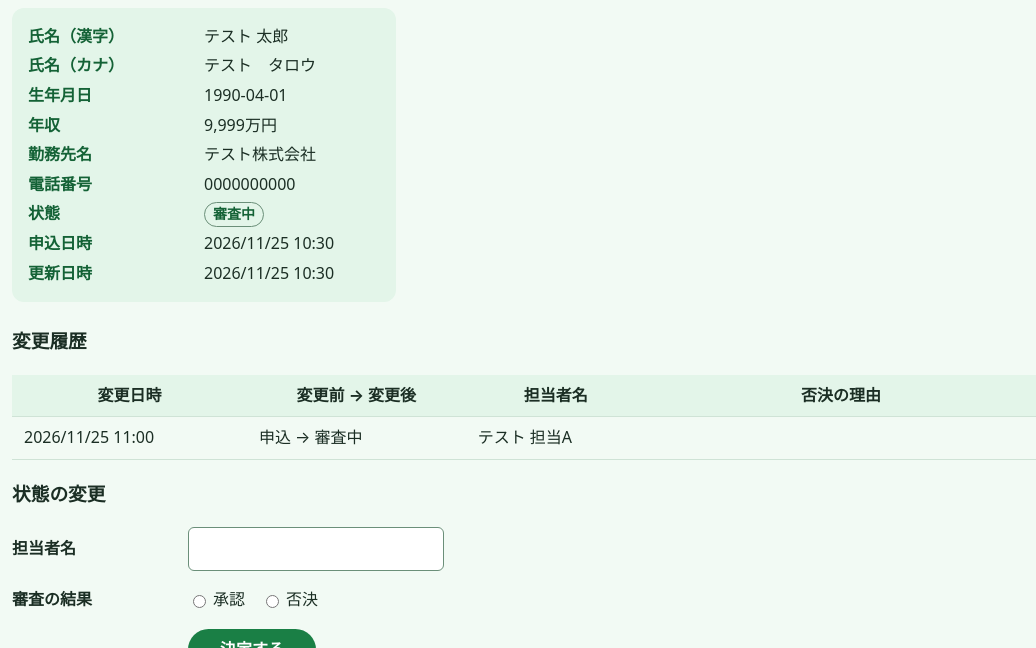
Scenario: ぶつかったあとの読み直しに失敗しても、今の詳細と 409 のメッセージを残し、読み直せなかったことを知らせる
In the field labelled "担当者名": [316, 549] box [188, 528, 444, 571], type "テスト 担当B"
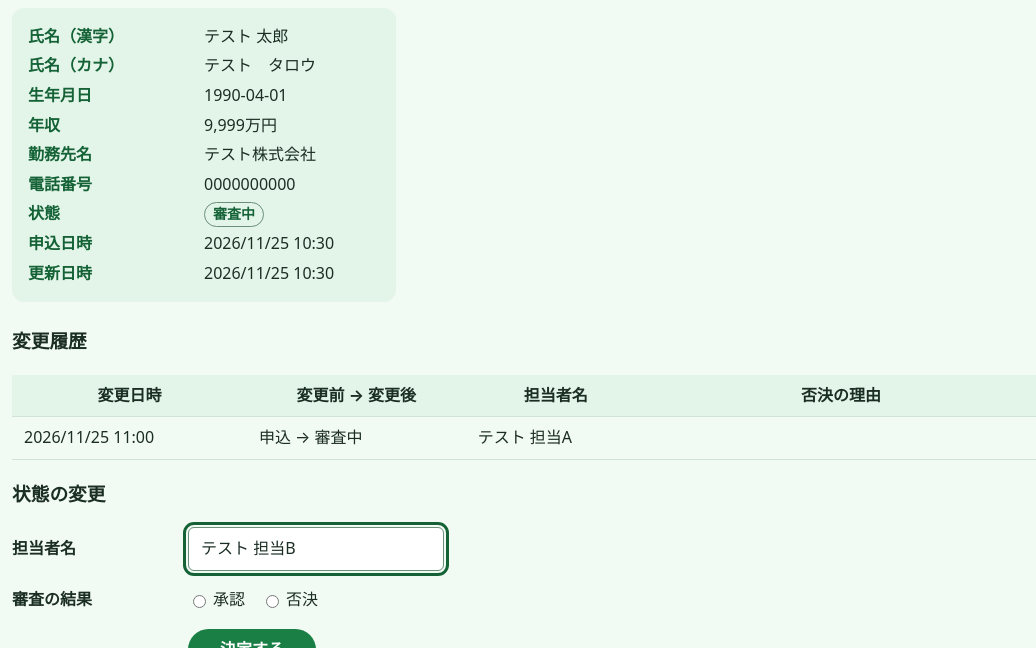
Click the radio button labelled "承認": [200, 601] box [193, 595, 206, 608]
(page scrolled)
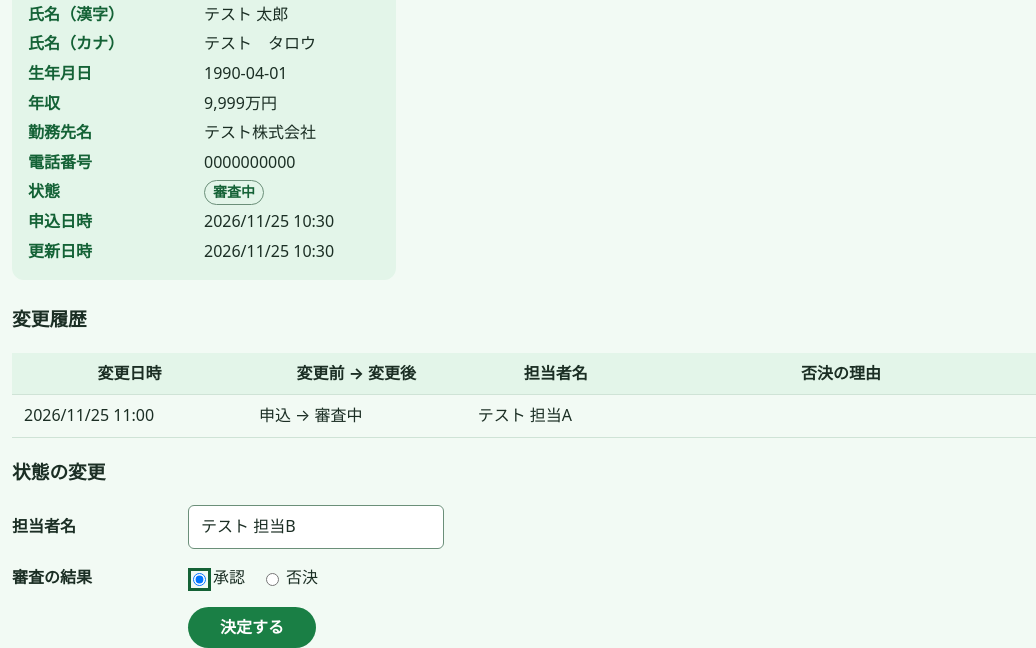
Click the button "決定する": [252, 627] box [188, 607, 316, 647]
(page scrolled)
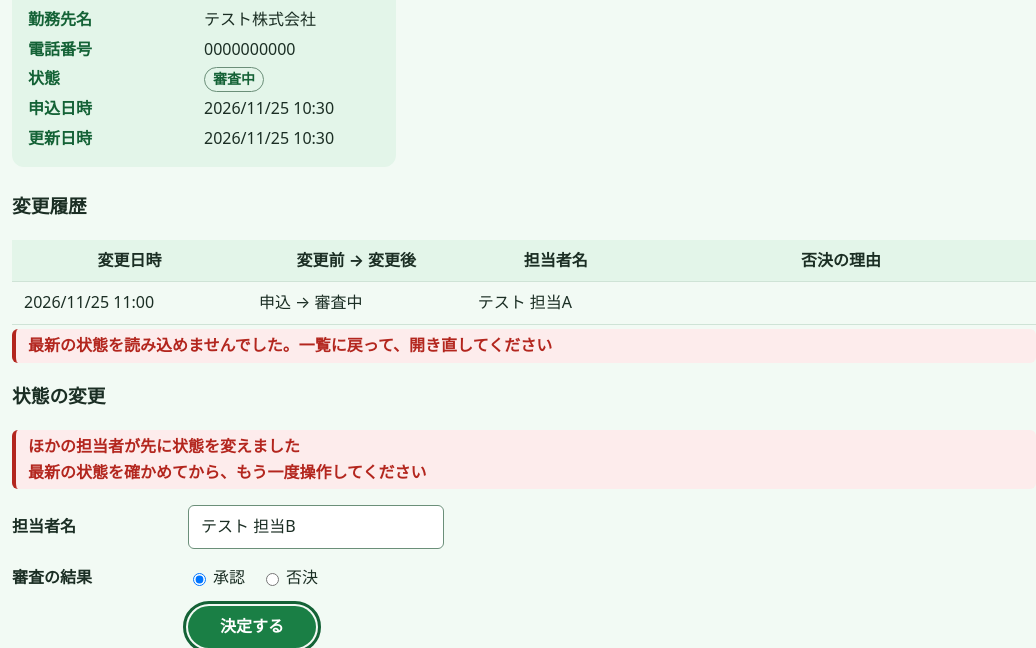
Expected: the text "審査中" is shown, [204, 68, 264, 92]
Now the text "最新の状態を読み込めませんでした。一覧に戻って、開き直してください" is shown, box [12, 329, 1035, 363]
Now the text "最新の状態を確かめてから、もう一度操作してください" is shown, box [28, 461, 427, 483]
// 選んだ「承認」は残っているので、そのまま決定する
Click the button "決定する": [252, 627] box [188, 606, 316, 647]
(page scrolled)
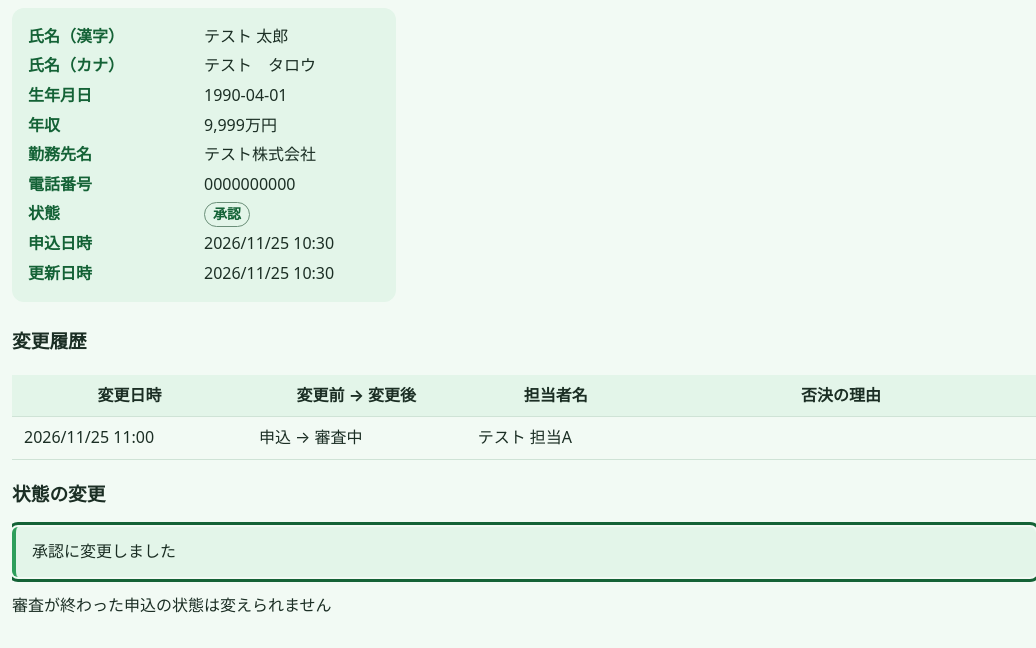
Now the text "審査が終わった申込の状態は変えられません" is shown, box [12, 594, 332, 616]
Now the text "最新の状態を読み込めませんでした。一覧に戻って、開き直してください" is gone
